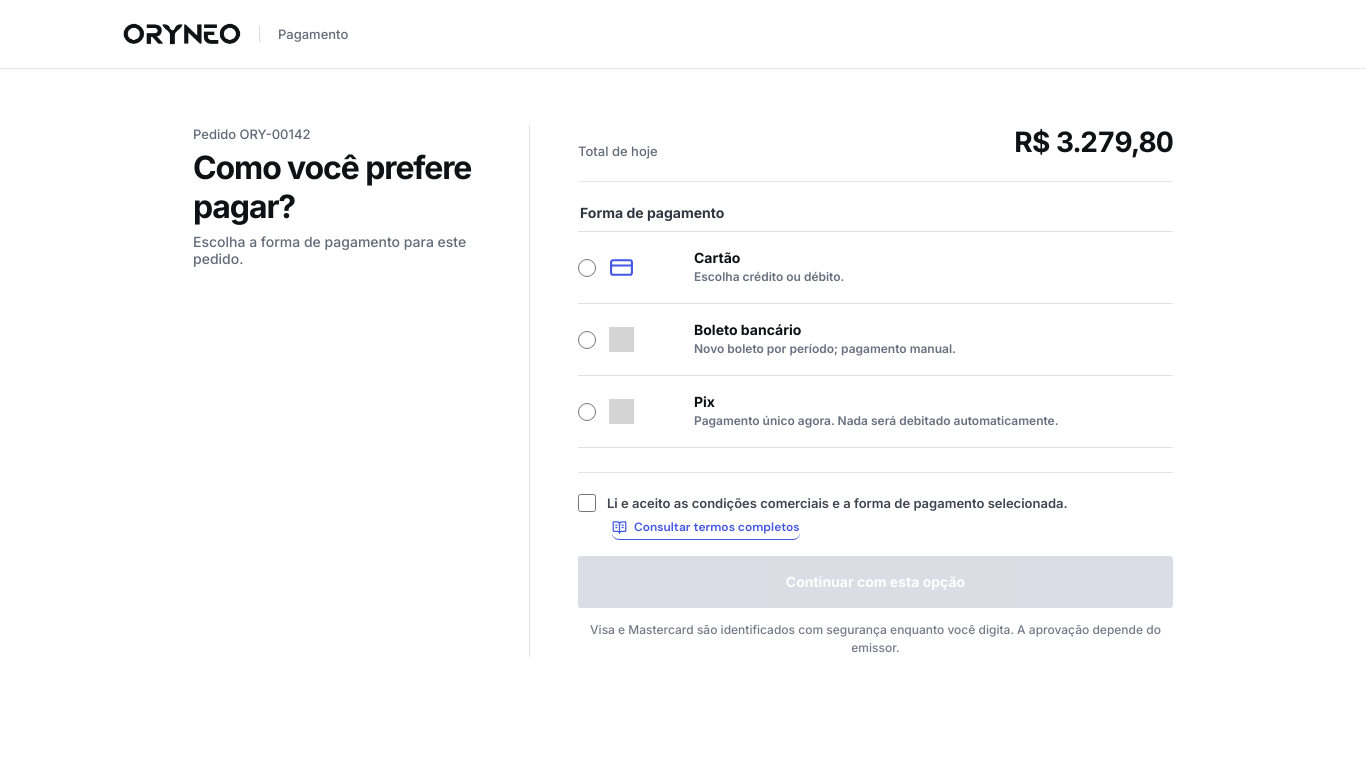
Test: PaymentPageView › começa sem forma de pagamento marcada e trata crédito ou débito como subopção do cartão
Expected: the radio button labelled "Boleto bancário" is not checked, [578,330,596,348]
Expected: the radio button labelled "Pix" is not checked, [578,402,596,420]
Step 1. Click the radio button labelled "Cartão" → (587, 268), box [578,258,596,276]
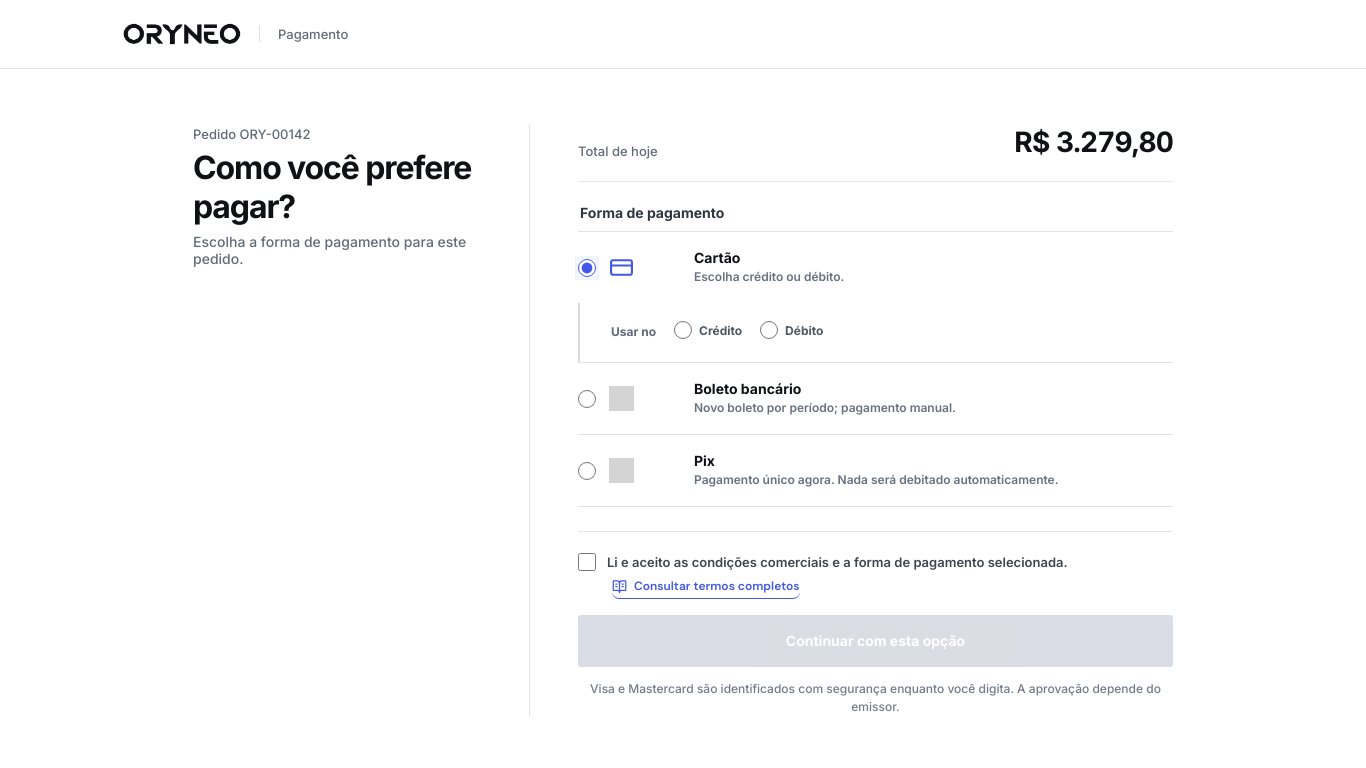
Expected: the button "Continuar com esta opção" is disabled, [578,614,1173,666]
Result: the radio button with aria-label "Cartão de crédito" is not checked at [674,321,692,339]
Result: the radio button with aria-label "Cartão de débito" is not checked at [760,321,778,339]
